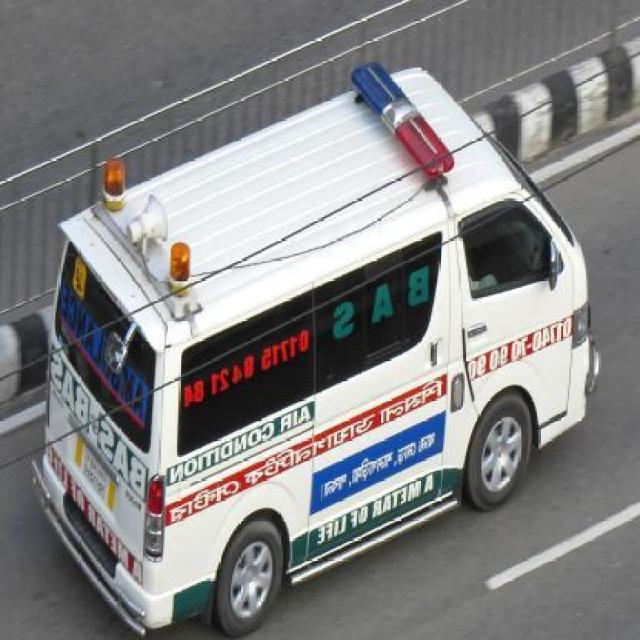Ambulance: (24, 36, 602, 608)
